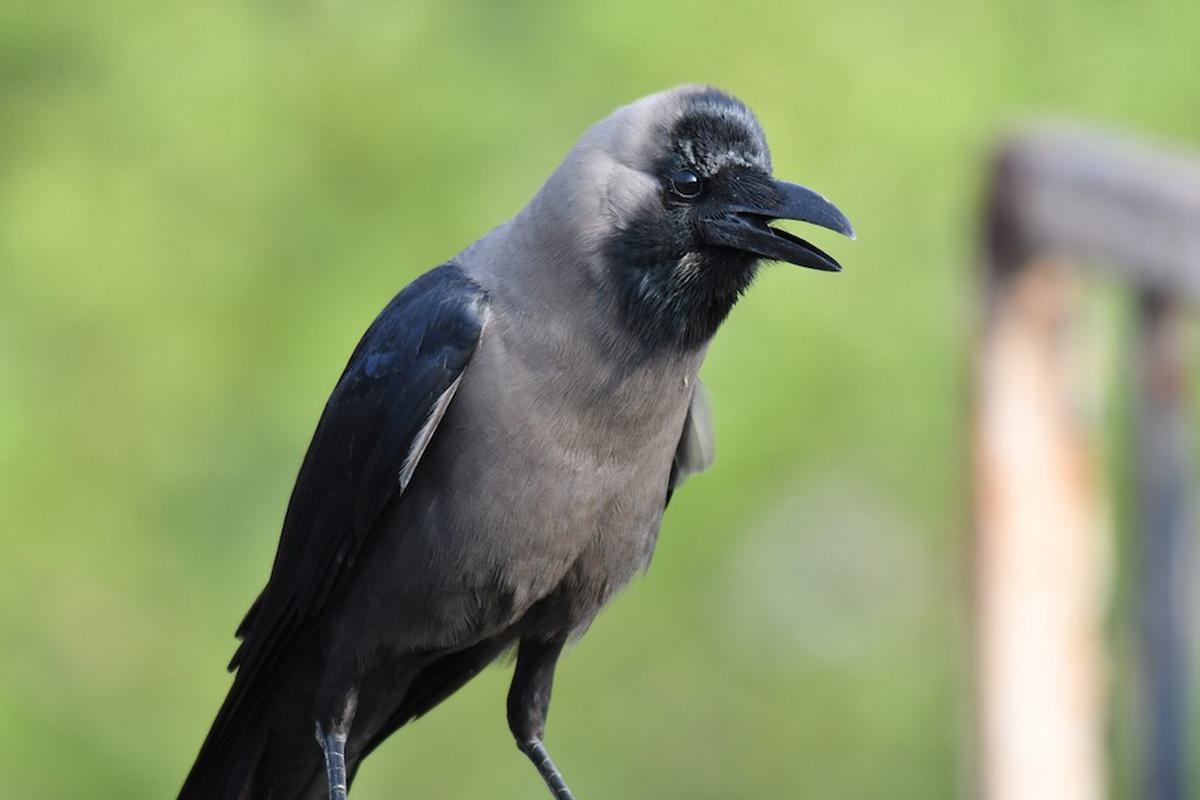crow: (195, 61, 855, 800)
